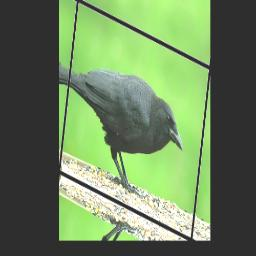Crow: (61, 44, 188, 220)
